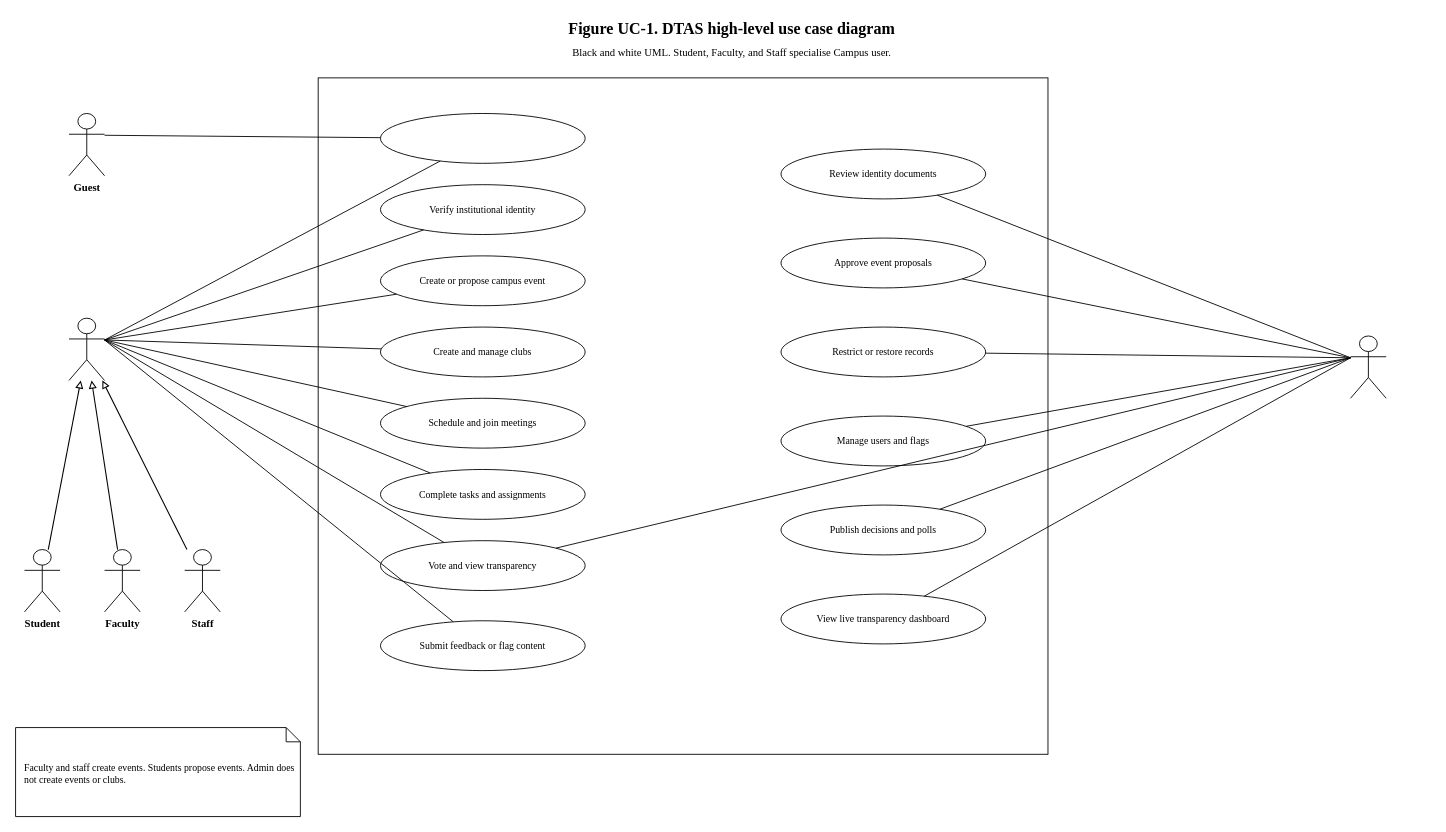
The diagram is 1446 pixels wide and 832 high, and some of its shapes have lost their labels. Here are the shapes that lost their labels. From the top down, the box of each, then its label:
(380, 113, 585, 163): Register and sign in
(68, 317, 105, 380): Campus user
(1350, 335, 1386, 398): System Admin
(317, 77, 1048, 754): Digital Transparency and Accountability System (DTAS)
